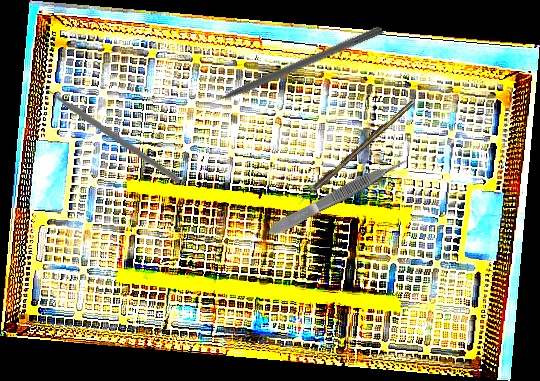Chopper: (35, 71, 186, 183)
Hook Surgical: (294, 99, 417, 206)
Pusher: (191, 23, 385, 114)
Tissue Forceps: (265, 154, 412, 239)
